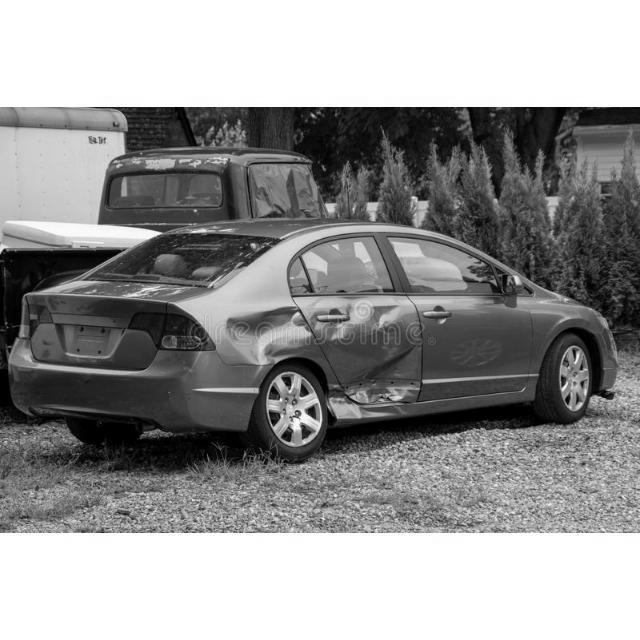doorouter-dent: (307, 296, 422, 408)
quaterpanel-dent: (203, 296, 305, 395)
